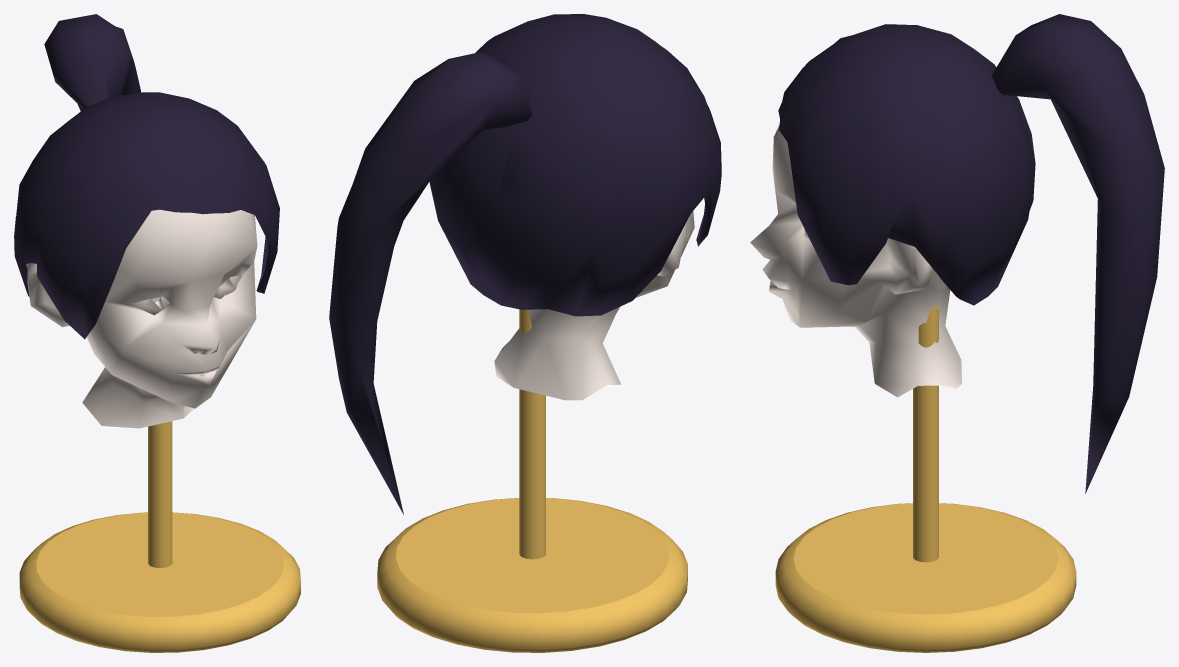
The model's file is rain.hair.ink-sleek.lod1.glb.
3 renders of one model, left to right at view 1: azimuth 30°, elevation 25°; view 2: azimuth 150°, elevation 25°; view 3: azimuth 270°, elevation 25°, orthographic. The views are drawn at different scales.
Visible parts, largest first — view 1: Hairstyles.ink-sleek.Crown, stand_base, GEO-rain-head, Hairstyles.ink-sleek.PonytailAnchor.Ponytail, stand_stem, GEO-rain-eyes; view 2: Hairstyles.ink-sleek.Crown, stand_base, Hairstyles.ink-sleek.PonytailAnchor.Ponytail, GEO-rain-head, stand_stem; view 3: Hairstyles.ink-sleek.Crown, stand_base, Hairstyles.ink-sleek.PonytailAnchor.Ponytail, GEO-rain-head, stand_stem.
Boxes of the visible parts, x1,y1,x2,y2 form: Hairstyles.ink-sleek.Crown: (14, 92, 279, 339); stand_base: (19, 512, 300, 652); GEO-rain-head: (26, 209, 257, 428); Hairstyles.ink-sleek.PonytailAnchor.Ponytail: (44, 14, 141, 111); stand_stem: (148, 421, 172, 567); GEO-rain-eyes: (129, 275, 240, 315); Hairstyles.ink-sleek.Crown: (429, 14, 721, 316); stand_base: (377, 498, 687, 652); Hairstyles.ink-sleek.PonytailAnchor.Ponytail: (329, 52, 532, 514); GEO-rain-head: (494, 211, 694, 400); stand_stem: (519, 309, 545, 559); Hairstyles.ink-sleek.Crown: (778, 24, 1035, 305); stand_base: (775, 503, 1076, 652); Hairstyles.ink-sleek.PonytailAnchor.Ponytail: (991, 14, 1164, 493); GEO-rain-head: (750, 125, 962, 397); stand_stem: (913, 305, 938, 562).
Size of the model in its own units: 0.3794 by 0.7311 by 0.4833.
